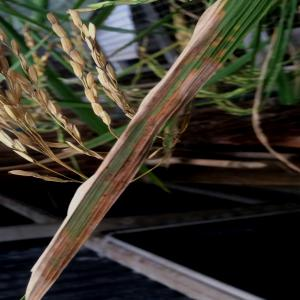2 BacterialBlight: (47, 191, 96, 263)
